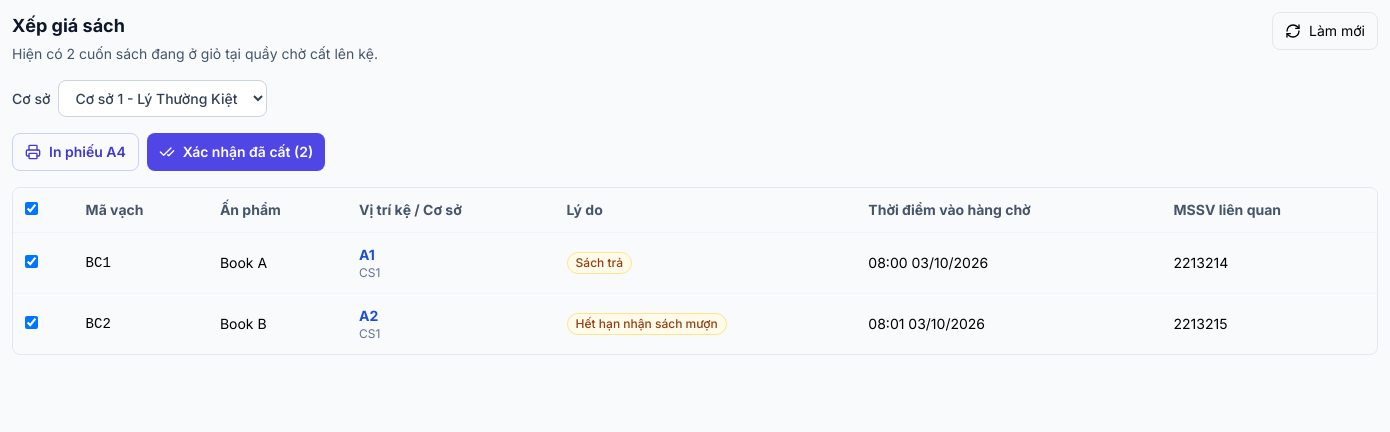
all-branches view cannot confirm and changing branch reloads only that branch
The image size is (1390, 432).
Expected: the text "Book A" is shown, [208,232,347,294]
Select "Tất cả cơ sở" in the dropdown labelled "Cơ sở" at [163, 98], box [58,80,267,117]
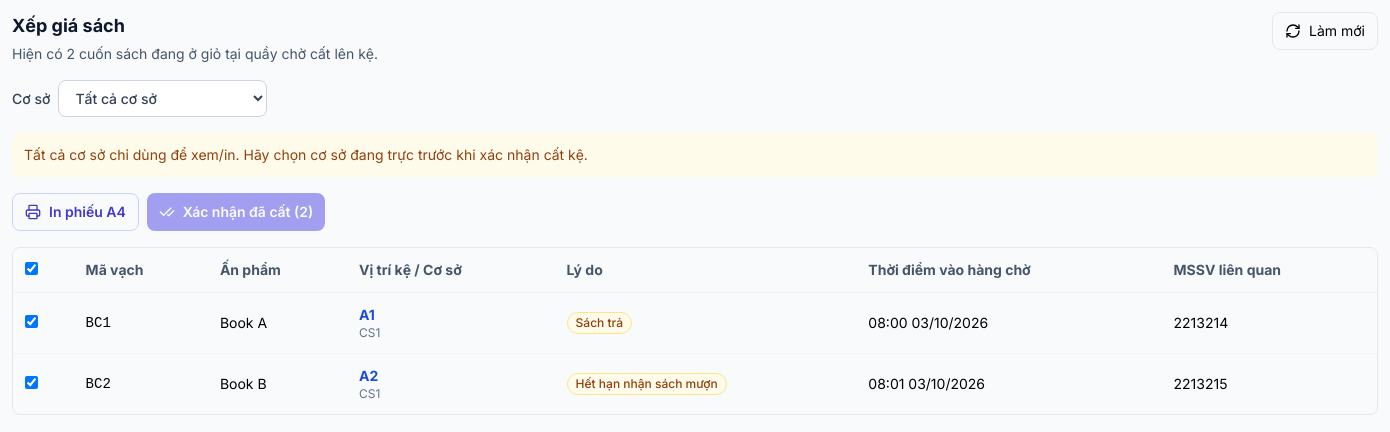
Result: the button "Xác nhận đã cất (2)" is disabled at [147,193,325,231]
Select "Cơ sở 2 - Dĩ An" in the dropdown labelled "Cơ sở" at [163, 98], box [58,80,267,117]
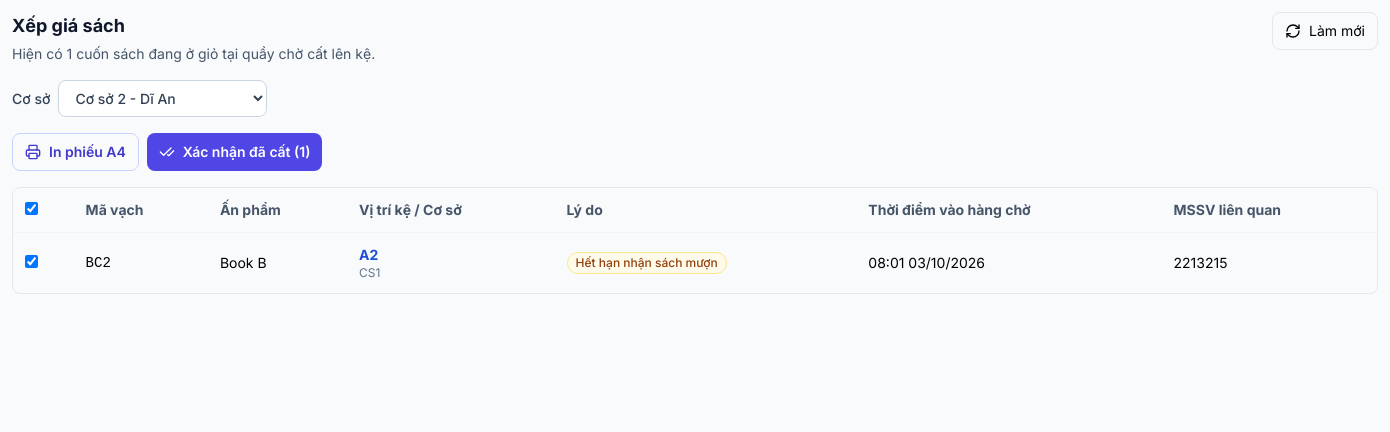
Result: the button "Xác nhận đã cất (1)" is enabled at [147,133,322,171]
